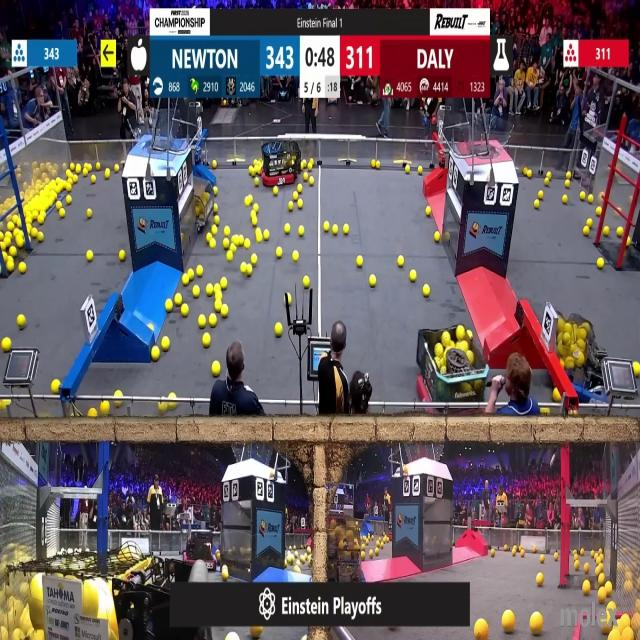ball_ground: (530, 614, 543, 636), (502, 612, 514, 634), (598, 588, 606, 604), (583, 582, 592, 596), (101, 401, 110, 415), (151, 347, 159, 361), (162, 338, 170, 352), (16, 314, 24, 328), (2, 339, 10, 353), (212, 361, 220, 375), (220, 566, 228, 580), (602, 622, 610, 636), (276, 322, 283, 337), (199, 315, 207, 328), (536, 572, 543, 586), (633, 361, 640, 375), (553, 389, 561, 401), (220, 306, 228, 318), (204, 335, 211, 348), (51, 381, 58, 394), (623, 631, 633, 640), (174, 293, 182, 304), (206, 284, 214, 295), (91, 409, 99, 420), (210, 314, 217, 326), (368, 275, 375, 287), (181, 306, 188, 318), (220, 278, 227, 290), (6, 262, 13, 274), (356, 255, 363, 267), (16, 236, 23, 248), (214, 287, 221, 299), (602, 226, 610, 236), (411, 271, 418, 282), (18, 264, 25, 275), (192, 286, 199, 297), (118, 250, 125, 261), (198, 267, 205, 278), (423, 284, 429, 296), (298, 224, 304, 236), (397, 255, 403, 267), (167, 301, 173, 313), (256, 231, 262, 243), (246, 266, 252, 278), (244, 198, 252, 207), (160, 402, 168, 411), (244, 239, 251, 249), (597, 258, 604, 268), (9, 247, 16, 257), (213, 302, 220, 312), (213, 215, 220, 225), (598, 574, 605, 584), (187, 270, 194, 280), (251, 254, 257, 265), (304, 277, 310, 288), (331, 223, 337, 234), (344, 223, 350, 234), (88, 250, 94, 261), (286, 293, 292, 304), (38, 212, 44, 223), (253, 177, 260, 186), (37, 234, 44, 243), (607, 601, 614, 610), (276, 248, 282, 258), (434, 233, 440, 243), (284, 223, 290, 233), (182, 276, 188, 286), (223, 240, 229, 250), (226, 251, 232, 261), (618, 226, 624, 236), (292, 251, 298, 261), (223, 225, 229, 235), (233, 236, 239, 246), (115, 390, 122, 398), (540, 409, 548, 416), (596, 207, 602, 216), (273, 186, 279, 195), (210, 240, 216, 249), (212, 225, 218, 234), (584, 226, 590, 235), (573, 561, 579, 570), (75, 166, 81, 175), (66, 182, 72, 191), (0, 241, 6, 250), (0, 399, 6, 408), (32, 230, 38, 239), (7, 222, 13, 231), (596, 565, 602, 574), (324, 222, 329, 232), (265, 231, 270, 241), (88, 208, 93, 218), (534, 200, 539, 210), (169, 392, 176, 399), (579, 191, 585, 199), (587, 218, 593, 226), (406, 165, 412, 173), (566, 172, 572, 180), (248, 168, 254, 176), (292, 192, 298, 200), (170, 401, 176, 409), (72, 175, 78, 183), (253, 204, 259, 212), (66, 170, 72, 178), (212, 186, 218, 194), (82, 168, 88, 176), (585, 564, 591, 572), (206, 234, 212, 242), (299, 163, 305, 171), (61, 209, 66, 218), (252, 217, 257, 226), (288, 203, 293, 212), (589, 193, 594, 202), (555, 553, 560, 562), (105, 170, 110, 179), (232, 244, 237, 253), (370, 161, 375, 170), (418, 168, 424, 175), (115, 399, 121, 406), (563, 194, 568, 202), (67, 197, 72, 205), (242, 264, 246, 274), (212, 162, 217, 170), (565, 182, 570, 190), (527, 170, 532, 178), (376, 162, 381, 170), (368, 552, 373, 560), (360, 552, 365, 560), (376, 550, 381, 558), (426, 207, 430, 216), (540, 555, 544, 564), (250, 211, 256, 217), (114, 166, 119, 173), (307, 180, 312, 187), (532, 545, 537, 552), (627, 239, 632, 246), (306, 162, 311, 169), (503, 543, 508, 550), (294, 566, 299, 573), (538, 190, 542, 198), (297, 201, 301, 209), (544, 178, 548, 186), (297, 184, 301, 192), (97, 164, 101, 172), (492, 550, 496, 558), (524, 168, 528, 176), (58, 202, 62, 210), (0, 234, 4, 242), (93, 176, 97, 183), (546, 172, 550, 179), (580, 550, 584, 557), (521, 552, 525, 559), (514, 550, 518, 557), (148, 325, 152, 332)
goal: (460, 118, 516, 158), (128, 116, 188, 152)
robot_blue: (546, 314, 614, 405), (194, 186, 218, 234)
robot_red: (413, 325, 488, 414), (262, 138, 302, 186), (182, 526, 223, 570)
